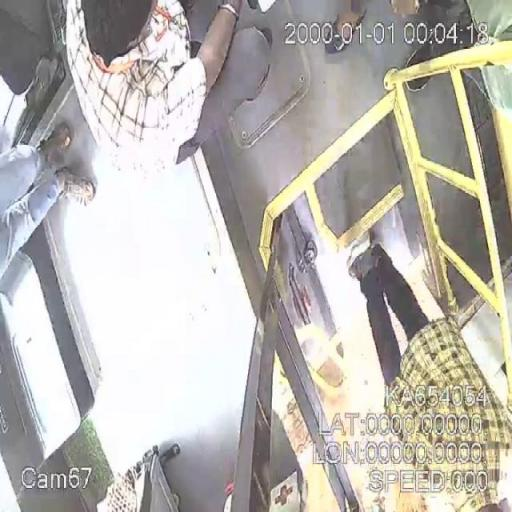persona: (346, 231, 511, 511), (64, 0, 247, 174), (1, 120, 96, 278)
